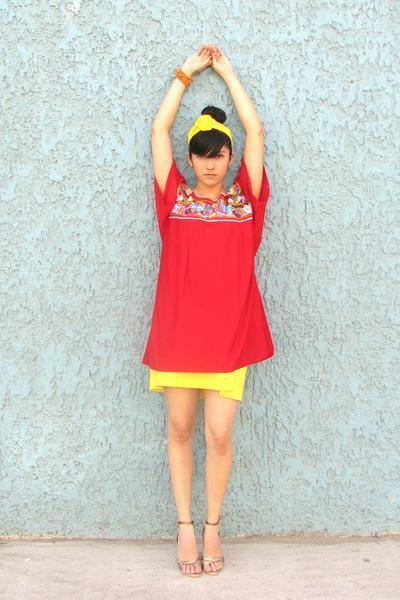short sleeve shirt: (131, 153, 280, 373)
skirt: (137, 352, 251, 403)
